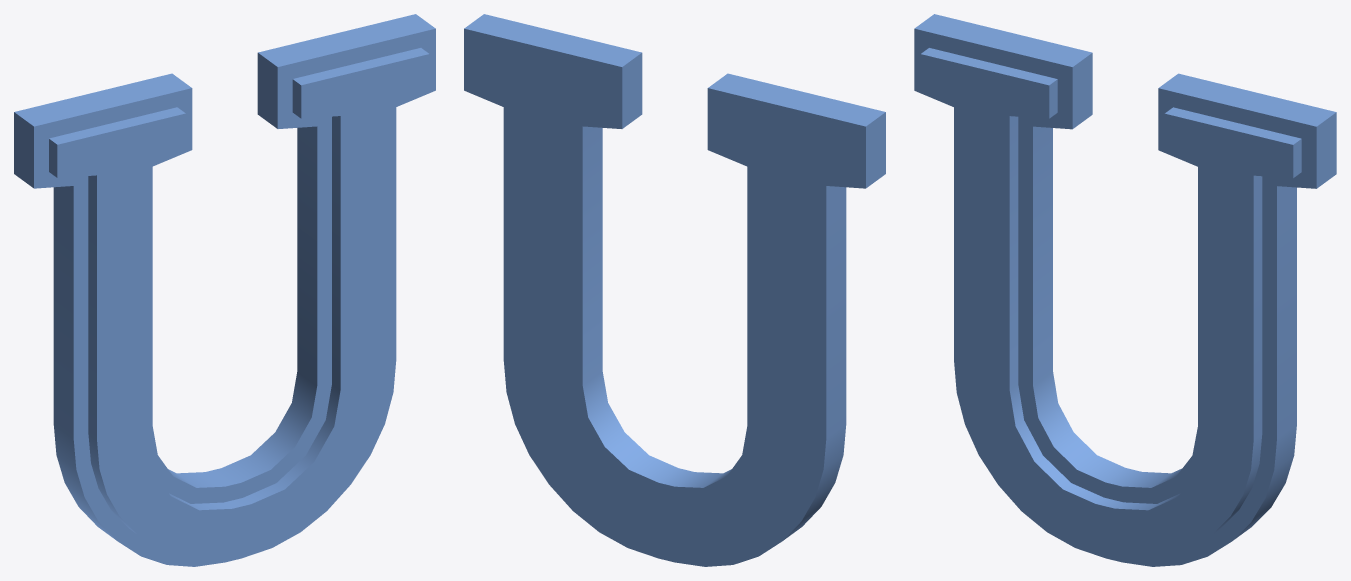
The model's file is uploads_files_2164769_U1.FBX.
The picture shows the model from 3 angles, left to right: view 1: azimuth 30°, elevation 25°; view 2: azimuth 150°, elevation 25°; view 3: azimuth 330°, elevation 25°; orthographic projection.
Parts seen in each view (by area): view 1: U; view 2: U; view 3: U.
Part boxes in pixels (<box>): U: <box>14,14,435,566</box>; U: <box>464,14,885,566</box>; U: <box>914,14,1336,566</box>.
Bounding box in the file's own units: 4.07 × 4.67 × 0.5.
